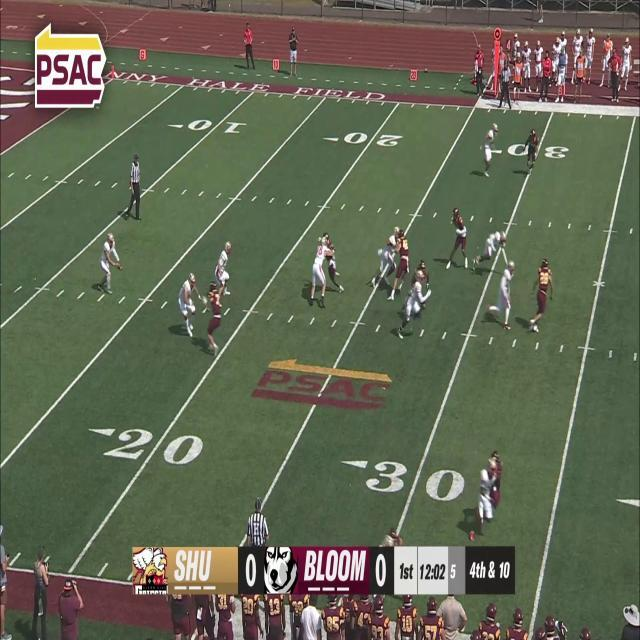football: (116, 262, 122, 270)
